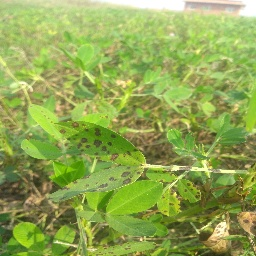GroundNut_Leaf: (56, 120, 146, 168), (104, 178, 166, 214), (10, 221, 49, 256), (105, 216, 157, 241), (20, 134, 56, 163), (180, 178, 202, 204), (74, 40, 95, 66), (165, 127, 185, 149), (164, 87, 193, 101)
